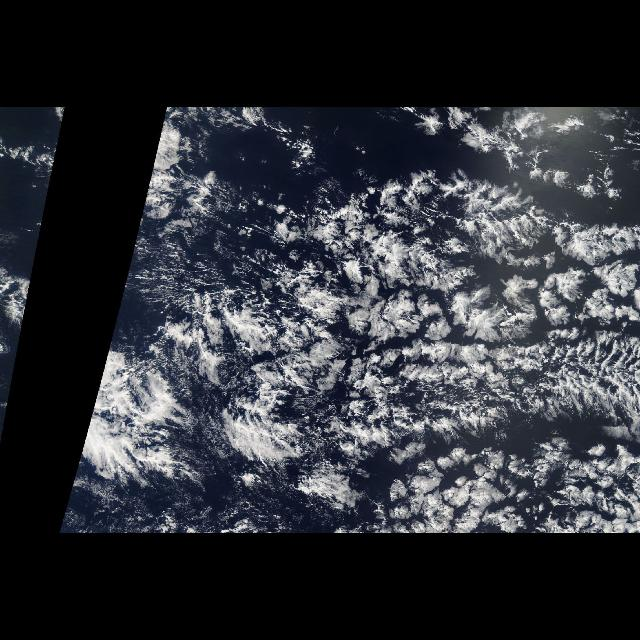Fish: (209, 339, 639, 463), (310, 169, 640, 279)
Flower: (164, 156, 640, 534)
